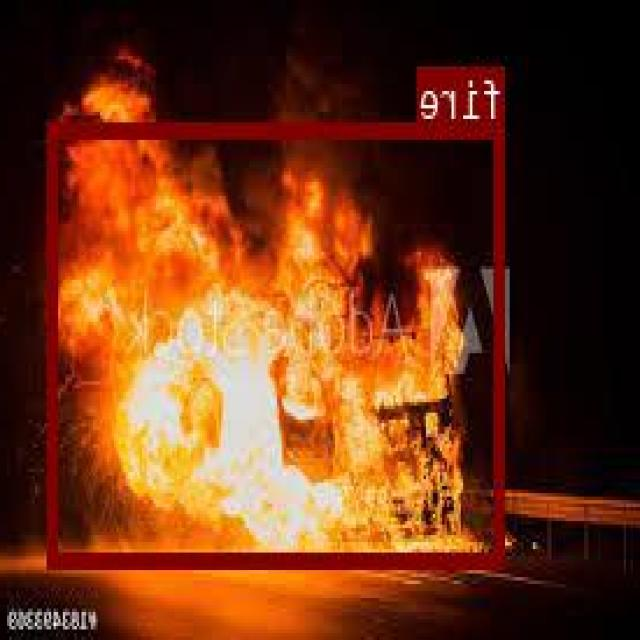fire: (51, 121, 507, 564)
